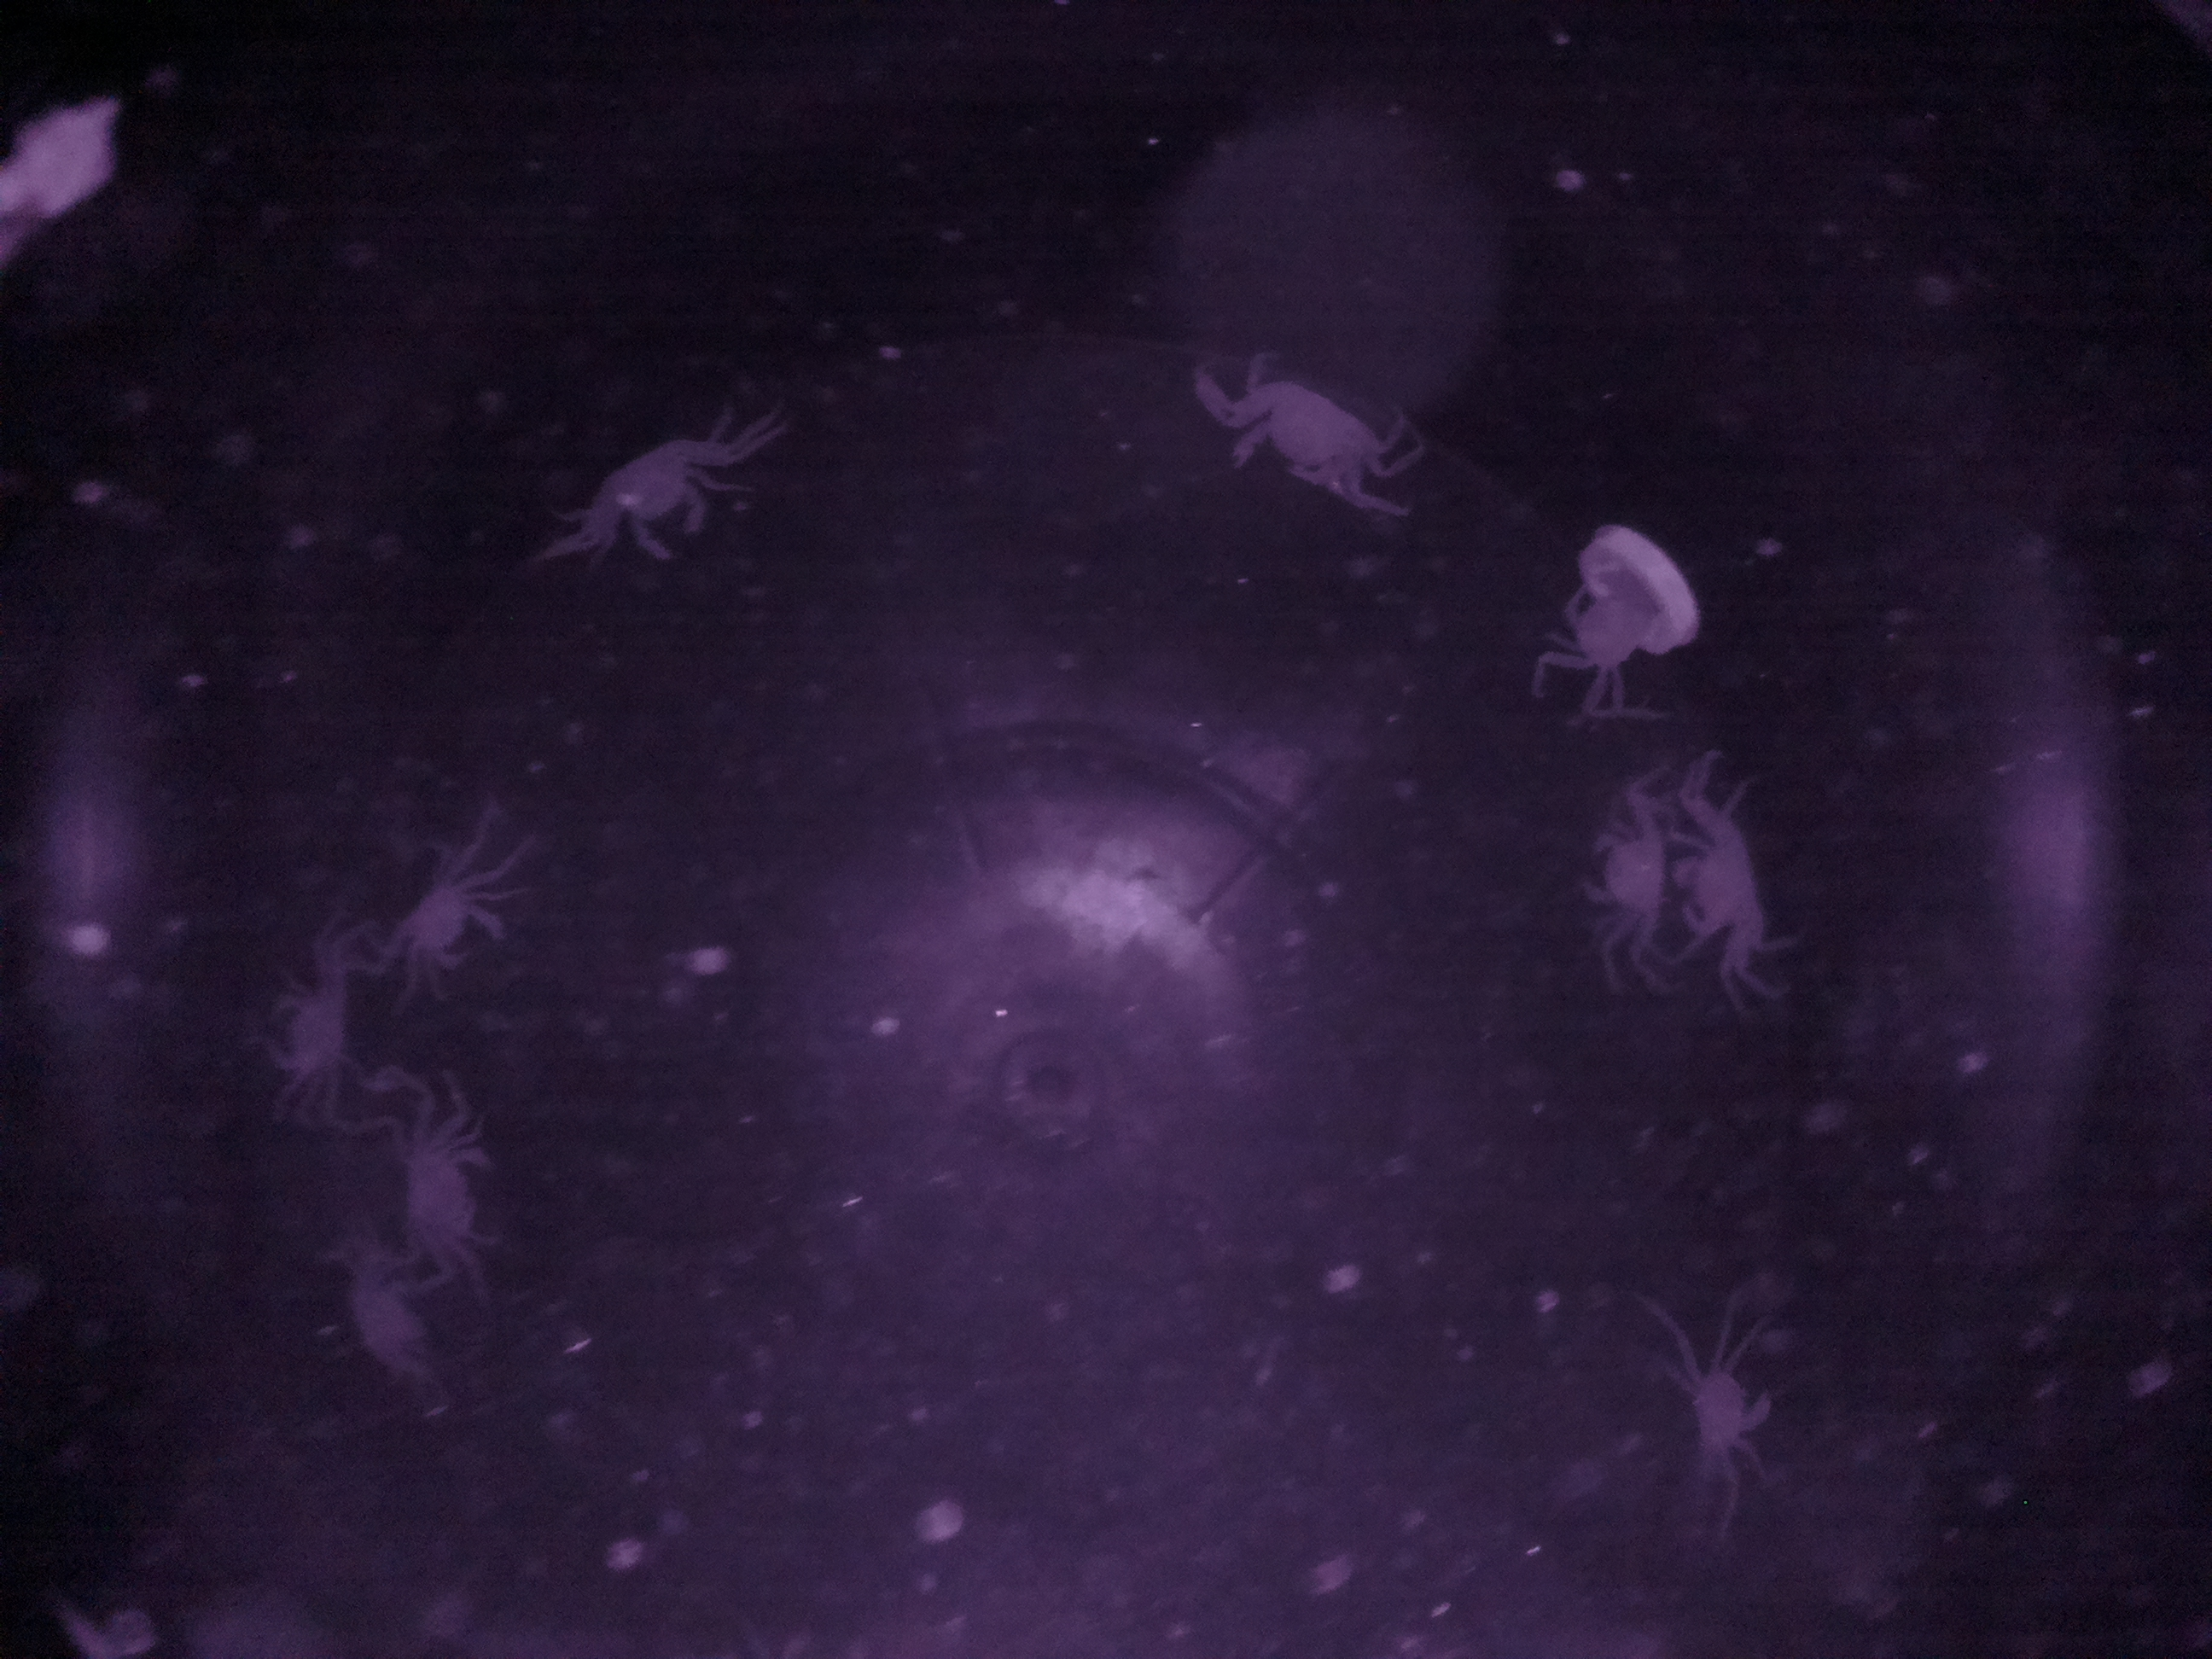Crab: (383, 1065, 535, 1314), (1191, 371, 1399, 516), (561, 423, 747, 584), (371, 833, 528, 1000), (1658, 1321, 1797, 1504), (1679, 770, 1784, 985), (1561, 786, 1672, 951)
